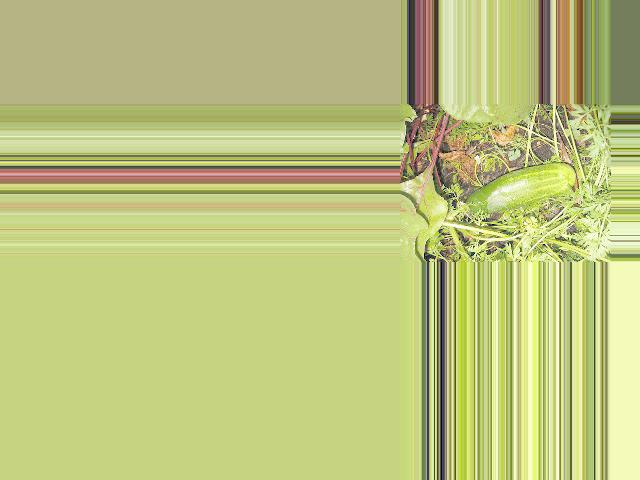cucumber: (465, 162, 573, 216)
